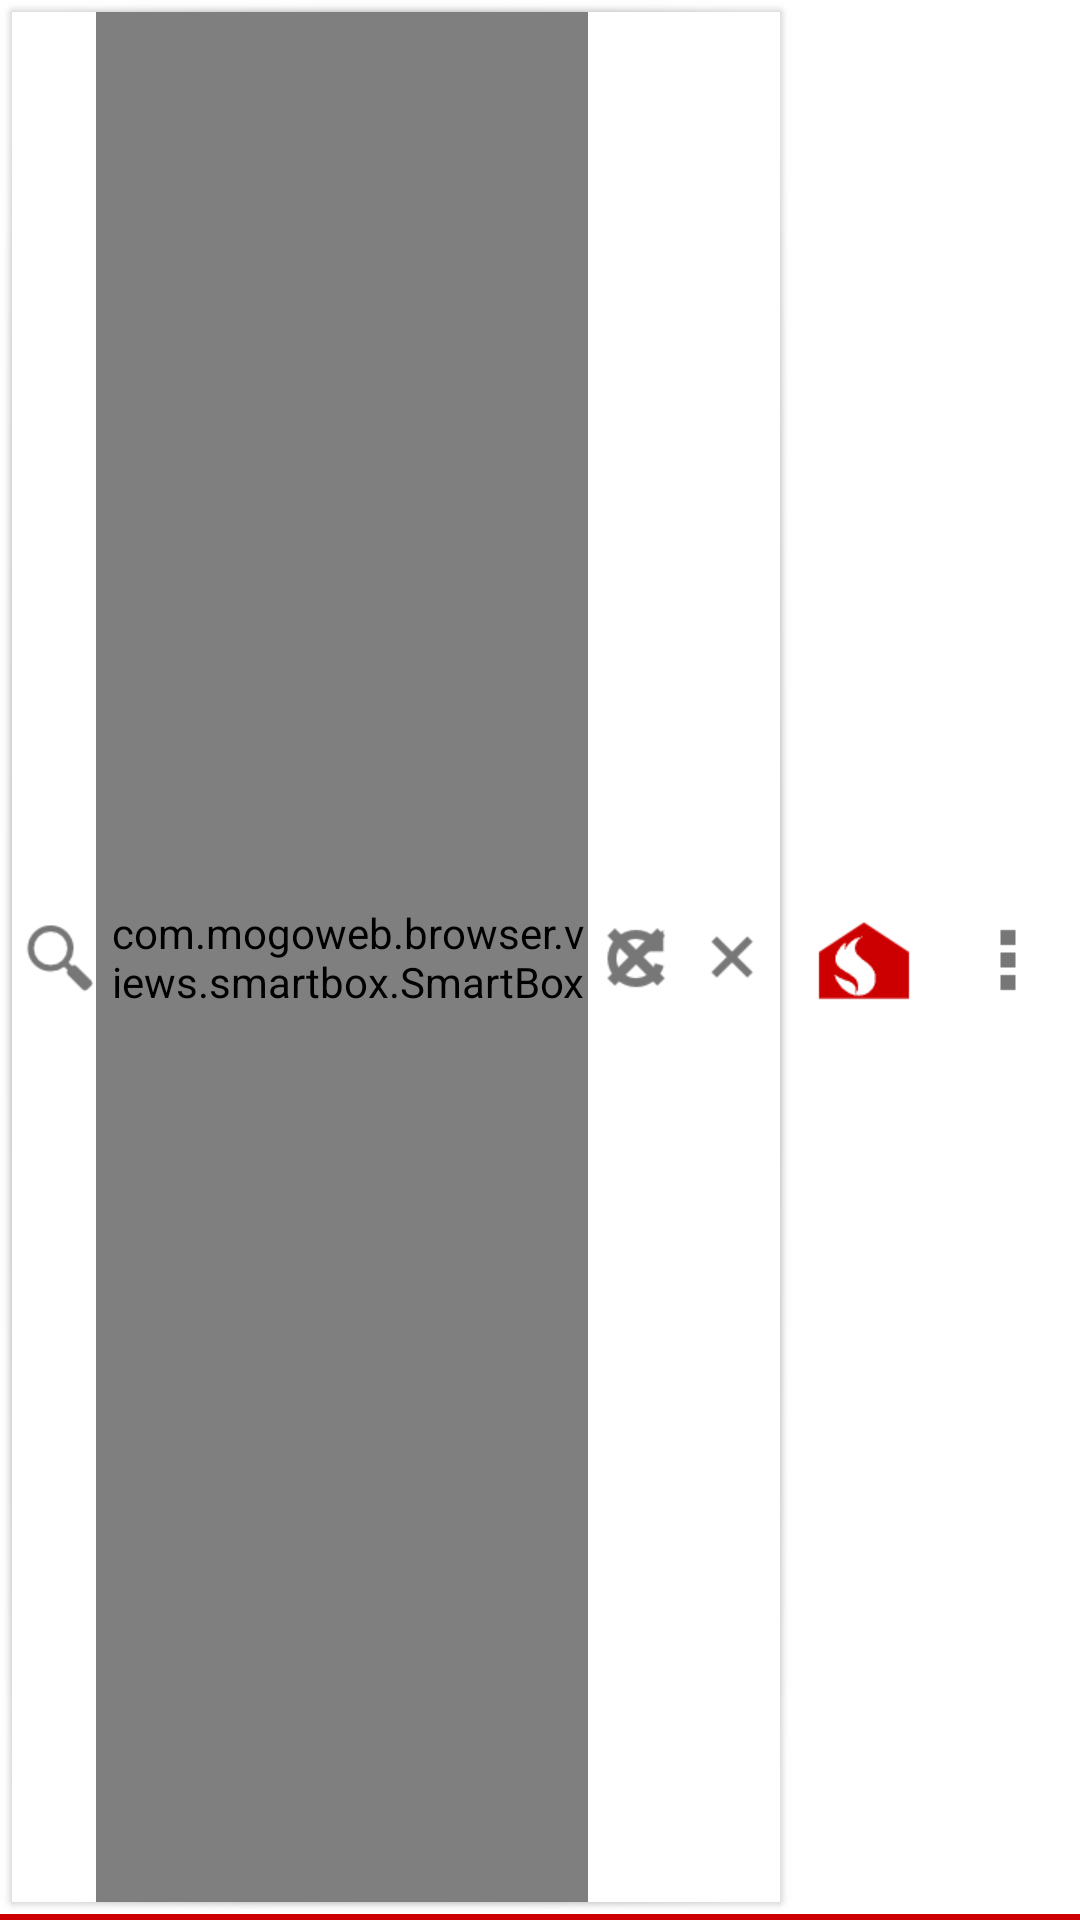

Locate icon controls on the screen. Image size 1080w x 1920h, boxes as (x1, y1, x2, y2).
clear: (711, 936, 753, 978)
home: (818, 922, 910, 1000)
